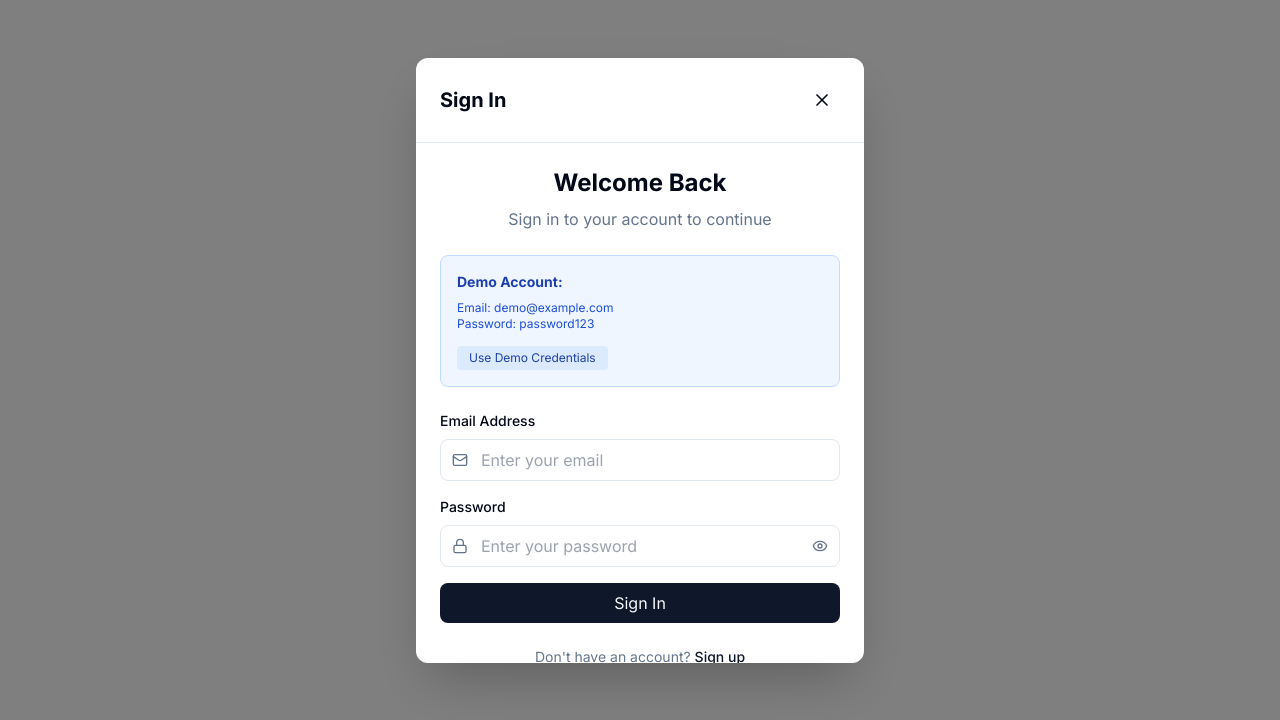
Test: AuthModal › fills demo credentials when button is clicked
Click the button "Use Demo Credentials": coordinates (532, 358) [457,346,608,370]
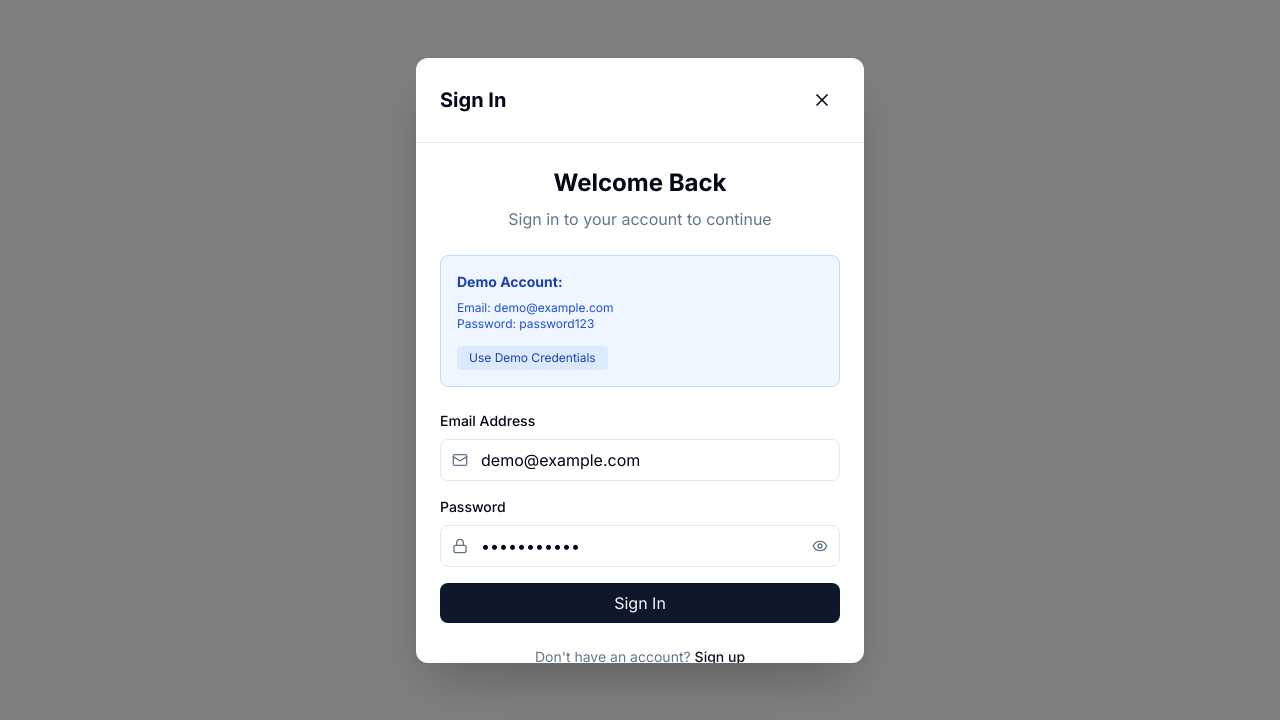
Now the field with placeholder "Enter your email" holds "demo@example.com", box [440,438,840,480]
Now the password field with placeholder "Enter your password" holds "password123", box [440,524,840,566]
